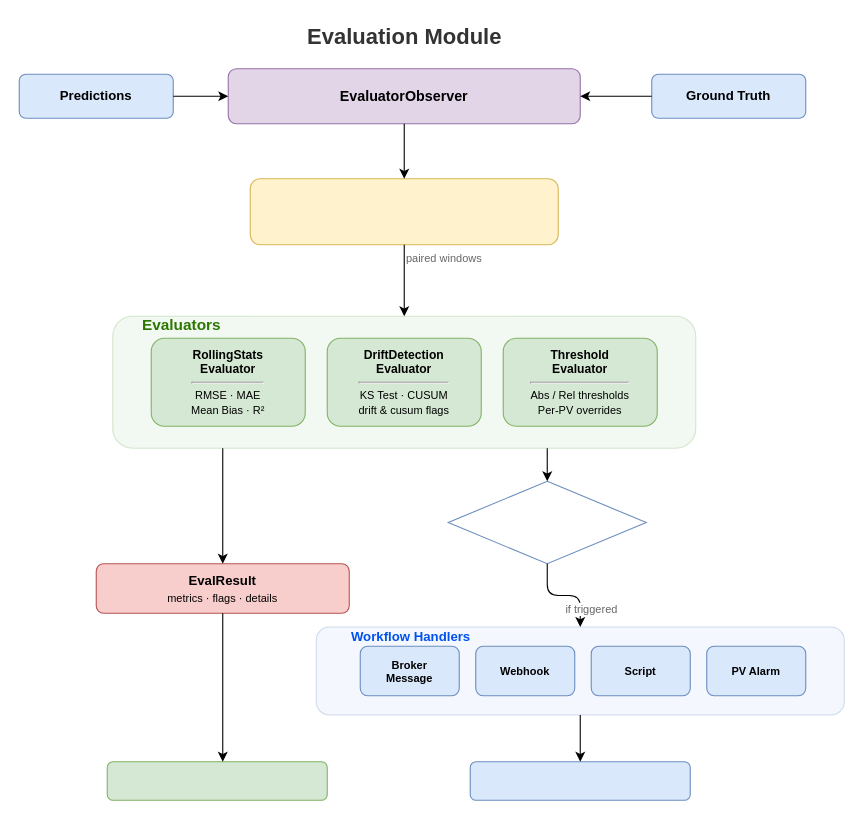
Image size: 864x820. Some labels were removed from this diagram. The shapes that lost their labels are listed below. From the top down, each one's centre as x and y in pixels, then its label:
point 403,211: AlignmentBuffer Pairs predictions with actuals (latest | timestamp mode)
point 546,522: check_condition() SymPy expression eval
point 216,780: eval_results topic
point 579,780: Triggered Actions
